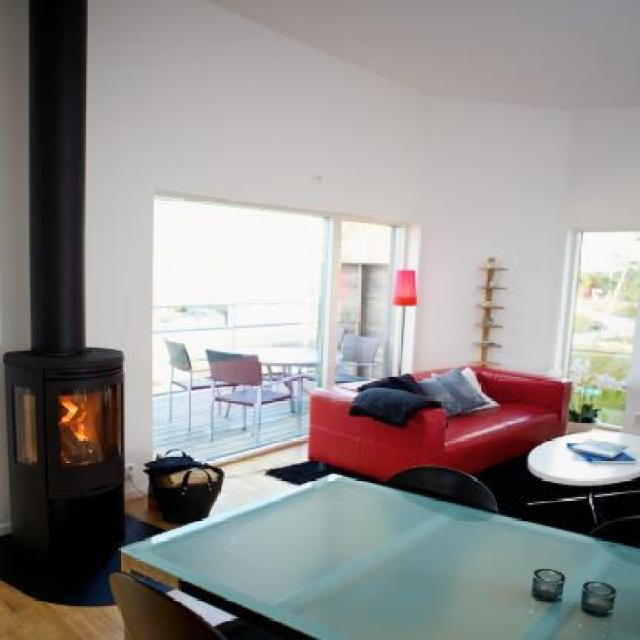Fire: (52, 376, 114, 469)
